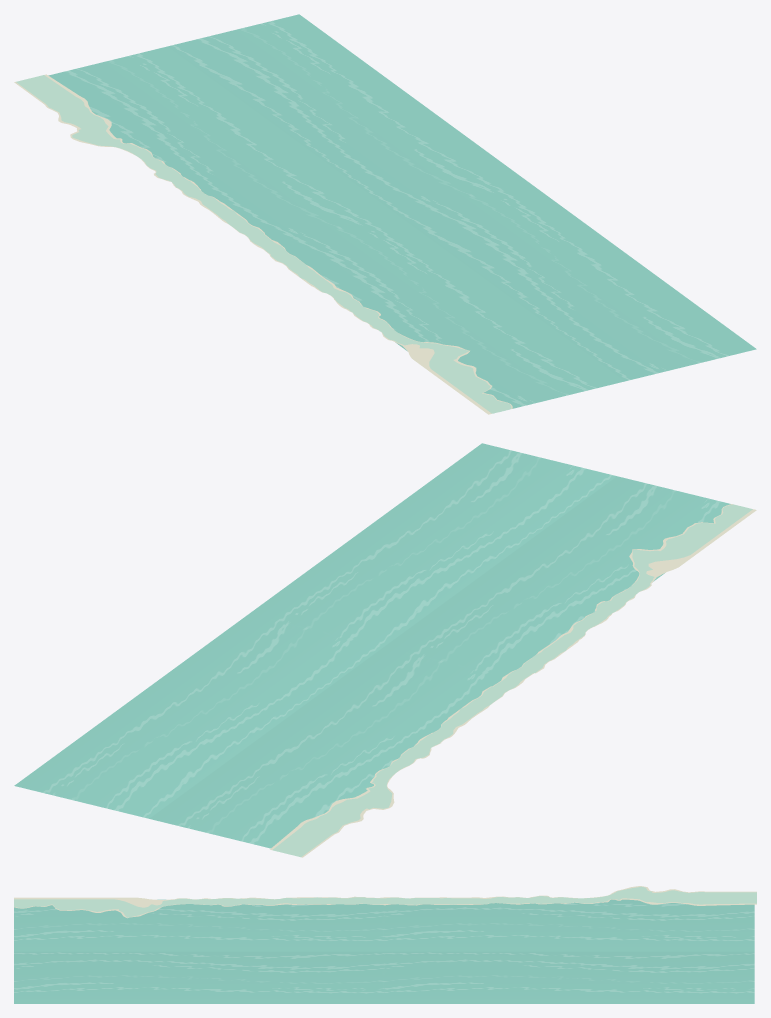
The model's file is Mesh_Battle_SandBeach_Ocean.fbx.
3 renders of one model, top to bottom at view 1: azimuth 30°, elevation 25°; view 2: azimuth 150°, elevation 25°; view 3: azimuth 270°, elevation 25°, orthographic. The views are drawn at different scales.
Visible parts, largest first — view 1: Mesh_Battle_SandBeach_Ocean_01, Mesh_Battle_SandBeach_Ocean_02; view 2: Mesh_Battle_SandBeach_Ocean_01, Mesh_Battle_SandBeach_Ocean_02; view 3: Mesh_Battle_SandBeach_Ocean_01, Mesh_Battle_SandBeach_Ocean_02.
Boxes of the visible parts, box(x1,y1,x2,y2) form: Mesh_Battle_SandBeach_Ocean_01: box(48, 14, 756, 408); Mesh_Battle_SandBeach_Ocean_02: box(14, 74, 512, 414); Mesh_Battle_SandBeach_Ocean_01: box(14, 443, 730, 848); Mesh_Battle_SandBeach_Ocean_02: box(270, 504, 756, 857); Mesh_Battle_SandBeach_Ocean_01: box(14, 899, 754, 1003); Mesh_Battle_SandBeach_Ocean_02: box(14, 886, 756, 918).
Size of the model in its own units: 2286 by 1 by 6100.
